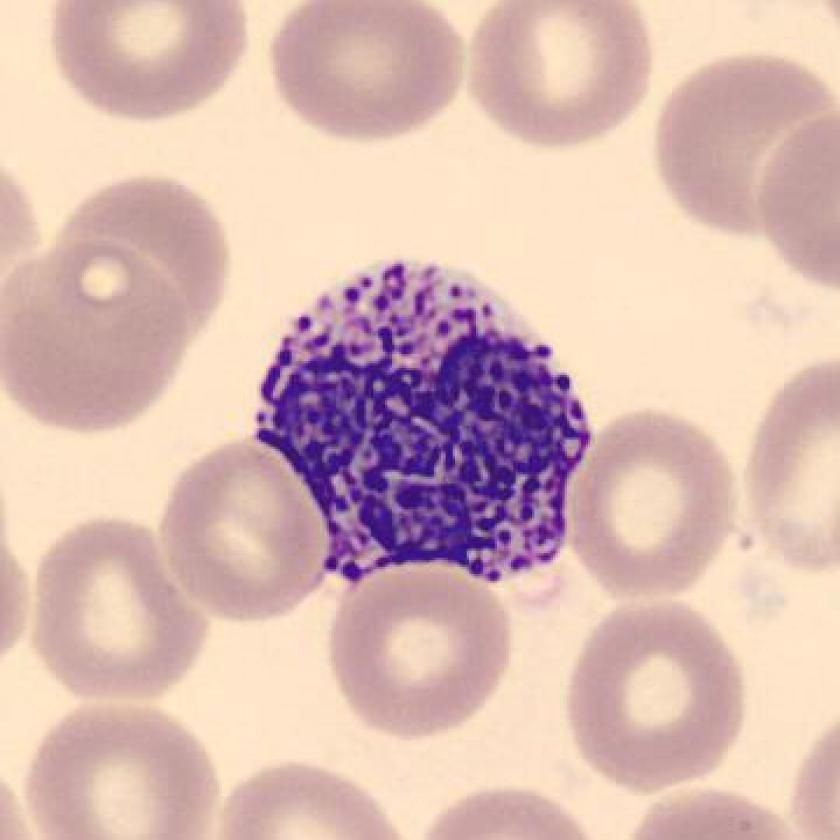basophil: (258, 256, 589, 591)
